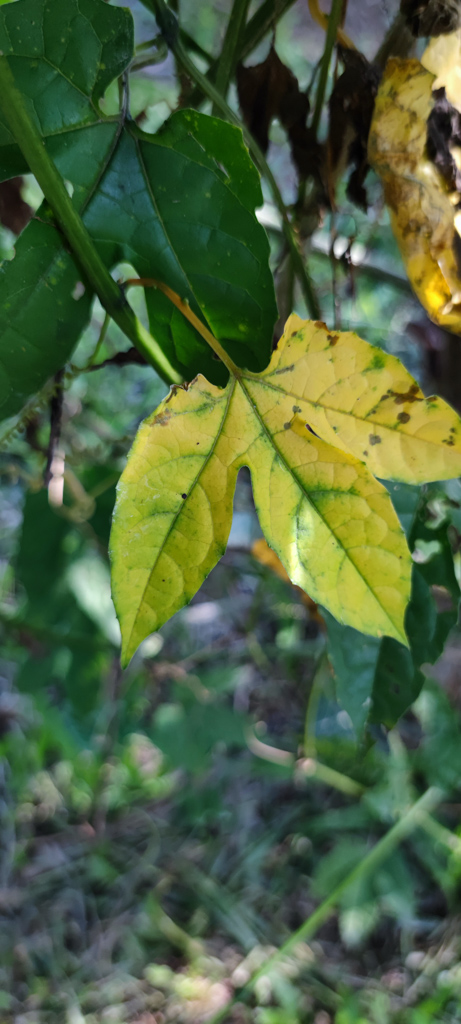Pepper yellow leaf: (95, 272, 458, 647), (357, 45, 458, 332)
